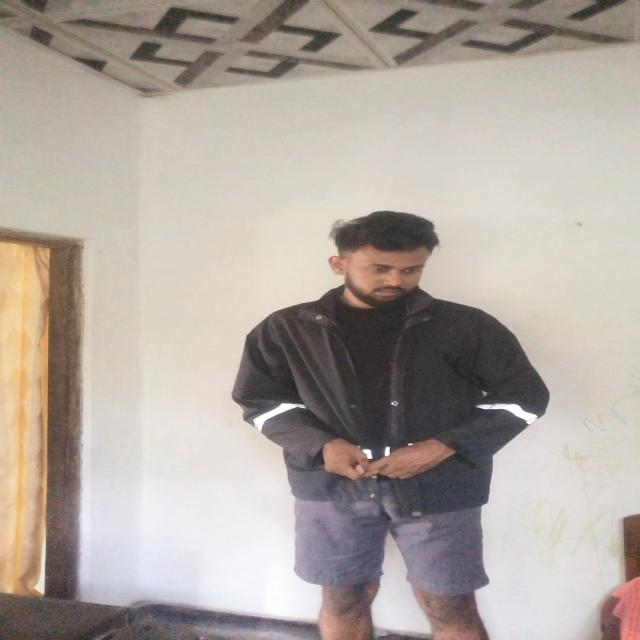Jacket_Wearer: (217, 291, 573, 506)
